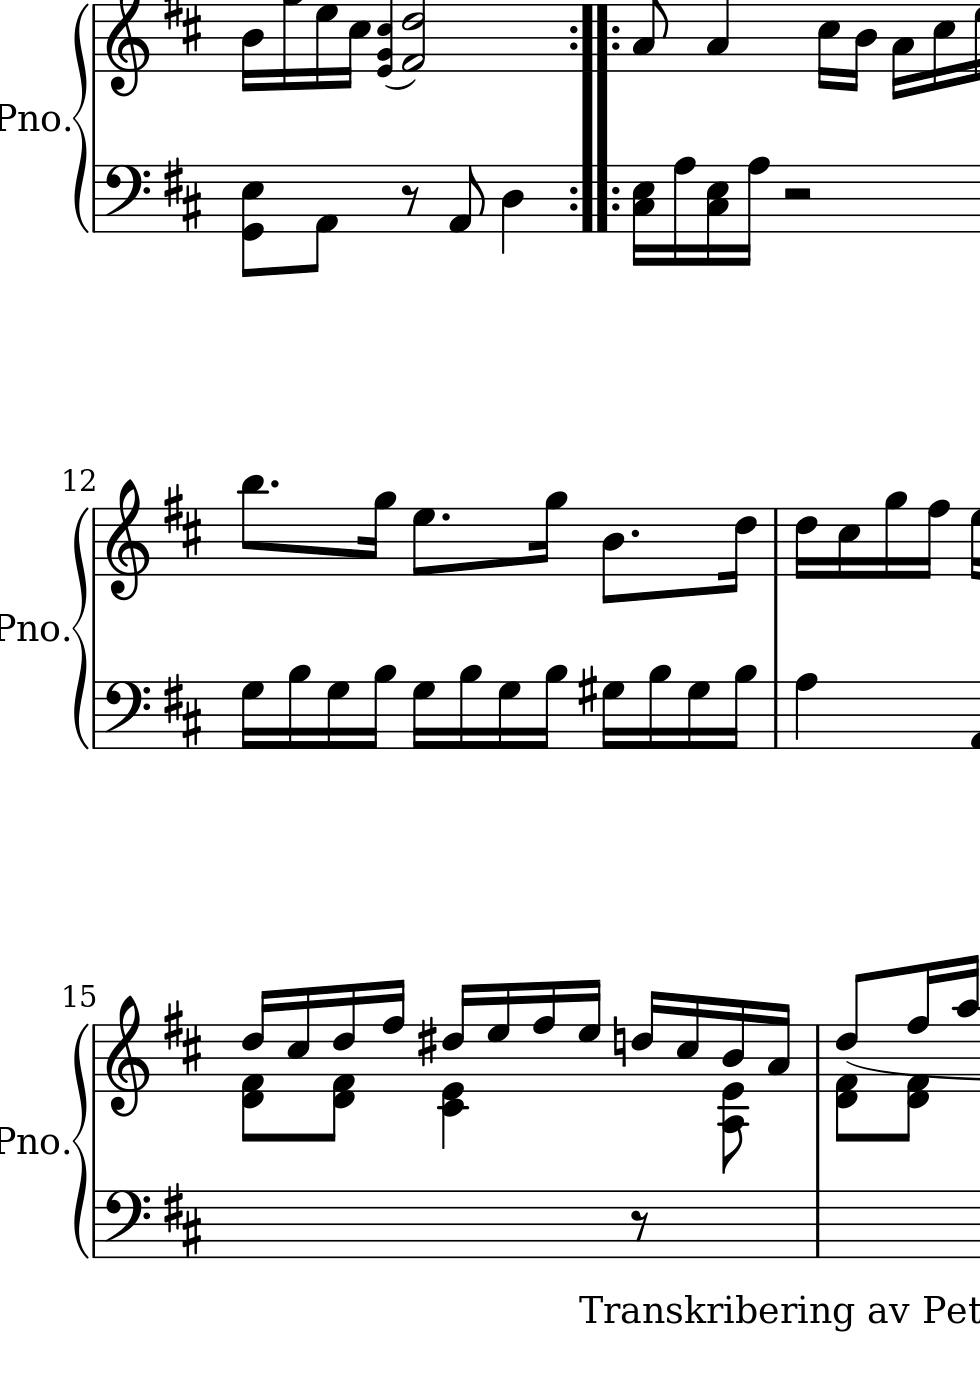1: (62, 466, 76, 494), (62, 983, 76, 1010)
16_10: (955, 958, 979, 1095)
16_3: (285, 986, 311, 1093), (889, 2, 914, 102), (766, 1000, 790, 1092)
16_3_5: (632, 163, 657, 268)
16_4: (846, 2, 877, 95), (239, 2, 264, 94)
16_5: (673, 992, 700, 1094), (339, 4, 370, 92), (930, 1, 955, 92), (815, 2, 839, 92), (835, 505, 861, 581)
16_6: (630, 987, 662, 1094), (720, 505, 757, 594), (792, 506, 818, 581)
16_7: (576, 976, 601, 1094), (486, 979, 511, 1096), (313, 1, 338, 93), (323, 677, 349, 752), (409, 678, 435, 753), (238, 679, 263, 753), (684, 678, 710, 752), (495, 679, 521, 752), (599, 678, 624, 754)
16_8: (735, 155, 768, 268), (379, 977, 405, 1094), (671, 153, 697, 268), (916, 499, 949, 581)
16_9: (530, 488, 565, 577), (360, 488, 393, 577), (533, 663, 566, 752), (364, 663, 396, 752), (724, 663, 754, 751), (645, 662, 671, 751), (456, 662, 482, 751), (881, 489, 906, 581), (285, 662, 310, 751)
2: (76, 466, 97, 494)
4_4: (498, 164, 524, 255)
4_8: (792, 671, 817, 750)
5: (78, 981, 97, 1008)
8_0_5: (240, 163, 263, 279)
8_1: (304, 161, 339, 274), (447, 164, 486, 234)
8_11: (240, 472, 267, 577)
8_3: (630, 1, 668, 72), (705, 1, 730, 74)
8_4: (599, 506, 624, 606)
8_7: (410, 506, 435, 577)
8_8: (531, 979, 558, 1095)
Brace: (71, 1019, 90, 1258), (74, 503, 90, 750), (72, 1, 88, 233)
D_S: (162, 671, 202, 749), (163, 154, 202, 232), (162, 483, 202, 559), (163, 1180, 203, 1257), (163, 998, 202, 1075), (162, 1, 202, 55)
Fclef: (101, 1188, 151, 1260), (100, 679, 148, 750), (102, 162, 148, 233)
Gclef: (104, 477, 148, 602), (104, 993, 148, 1118)
Natural: (611, 1014, 628, 1069)
Pno: (1, 1122, 60, 1160), (1, 100, 60, 137), (1, 611, 59, 645)
Rests2: (780, 185, 813, 203)
Rests8: (399, 183, 420, 217), (629, 1208, 650, 1242)
RightAndLeftRepeatSign: (566, 4, 622, 72), (567, 165, 622, 231)
Sharp: (575, 664, 599, 717), (415, 1017, 438, 1069)
Single_barline: (767, 508, 784, 576), (767, 681, 784, 748), (809, 1025, 825, 1092), (809, 1192, 825, 1256), (88, 509, 102, 577), (88, 1190, 102, 1258), (88, 1025, 101, 1093), (88, 5, 101, 72), (89, 682, 102, 748), (89, 166, 101, 232)
Slur: (384, 78, 416, 91)
dot: (627, 525, 642, 540), (267, 477, 281, 491), (438, 510, 452, 524)
